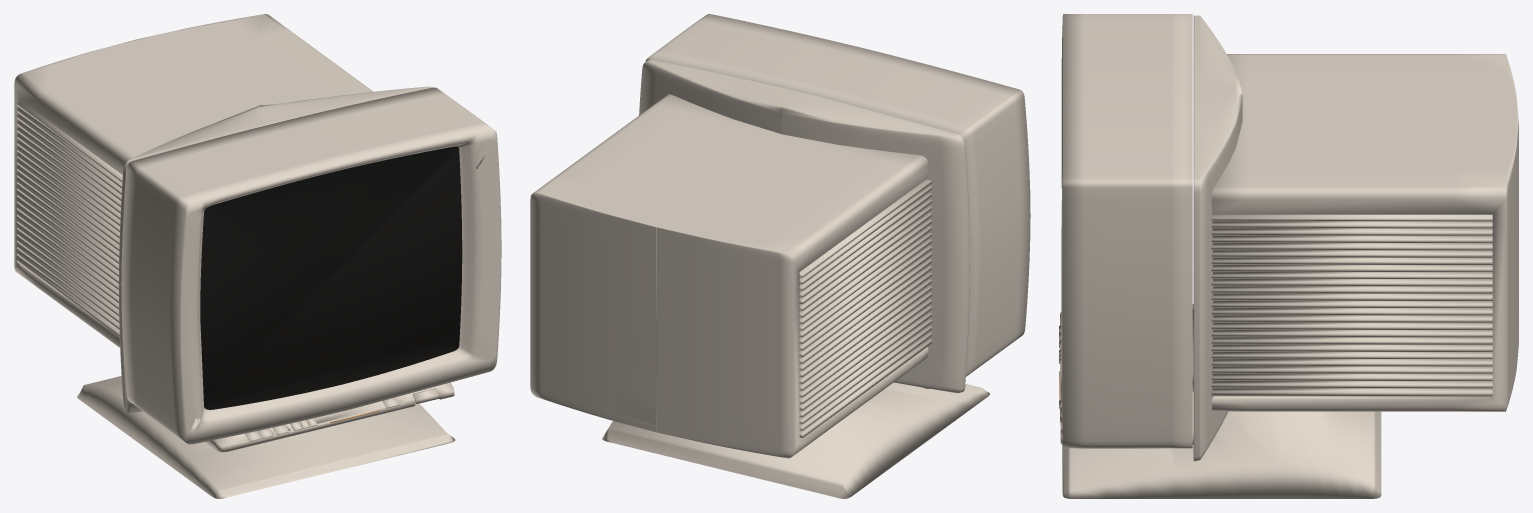
Rendered from monitor.fbx.
The picture shows the model from 3 angles, left to right: view 1: azimuth 30°, elevation 25°; view 2: azimuth 150°, elevation 25°; view 3: azimuth 270°, elevation 25°; orthographic projection. The views are drawn at different scales.
Parts seen in each view (by area): view 1: monitor-21; view 2: monitor-21; view 3: monitor-21.
Part boxes in pixels (x1=…): monitor-21: x1=14, y1=14, x2=501, y2=498; monitor-21: x1=530, y1=14, x2=1030, y2=498; monitor-21: x1=1059, y1=14, x2=1518, y2=498.
Size of the model in its own units: 17.62 by 15.97 by 19.46.
